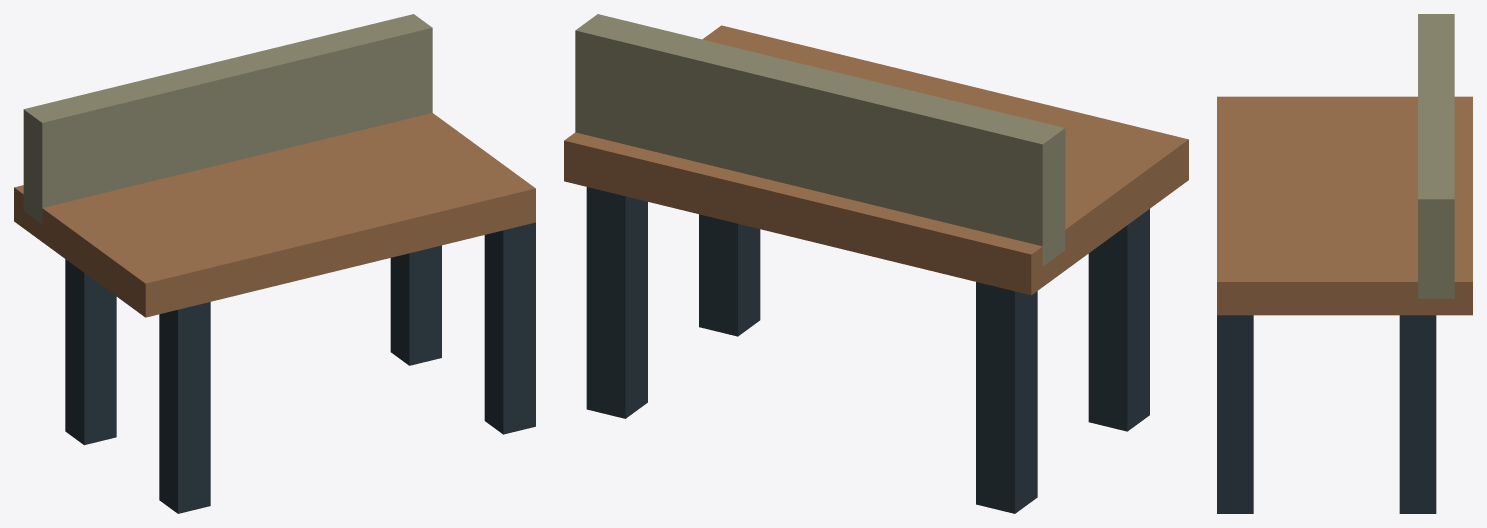
Rendered from fitness-09.glb.
3 views of the same model, side by side, from view 1: azimuth 30°, elevation 25°; view 2: azimuth 150°, elevation 25°; view 3: azimuth 270°, elevation 25° (orthographic). The views are drawn at different scales.
Parts seen in each view (by area): view 1: Weight bench; view 2: Weight bench; view 3: Weight bench.
Part boxes in pixels (x1,y1,x2,y2): Weight bench: (14,14,535,513); Weight bench: (564,14,1188,513); Weight bench: (1217,14,1472,513).
Bounding box in the file's own units: 1.92 × 1.52 × 1.12.
